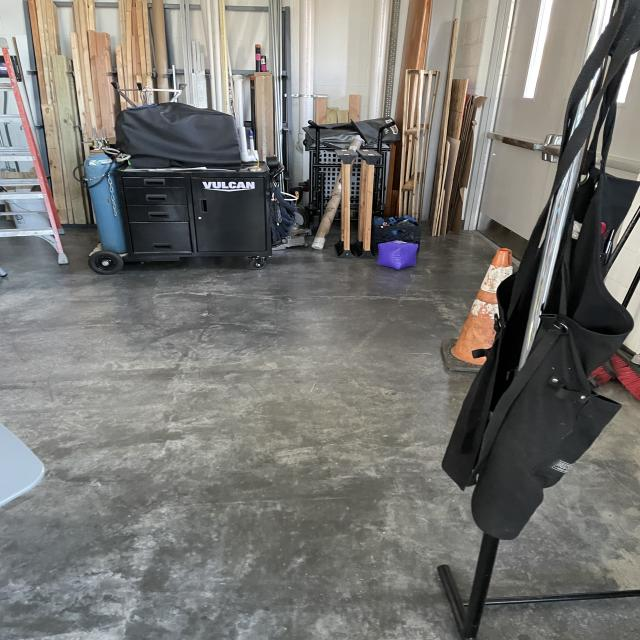frc_cube: (371, 237, 422, 274)
